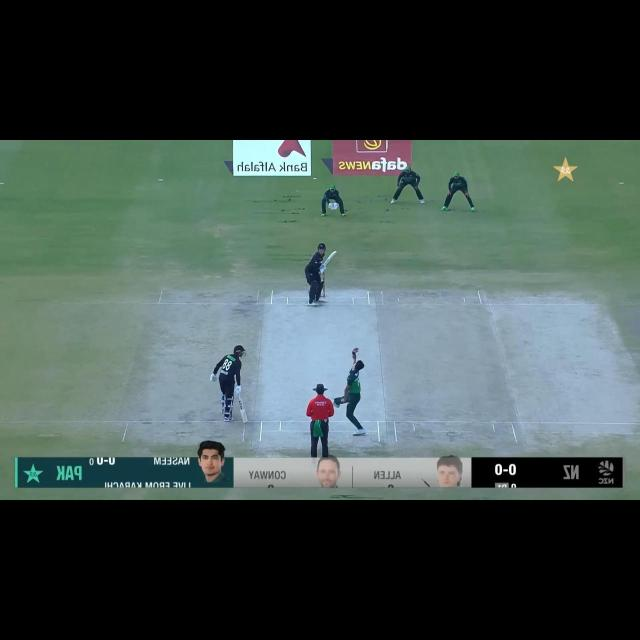bat: (240, 399, 248, 424), (324, 250, 337, 265)
toe: (243, 417, 247, 424), (332, 250, 337, 255)
